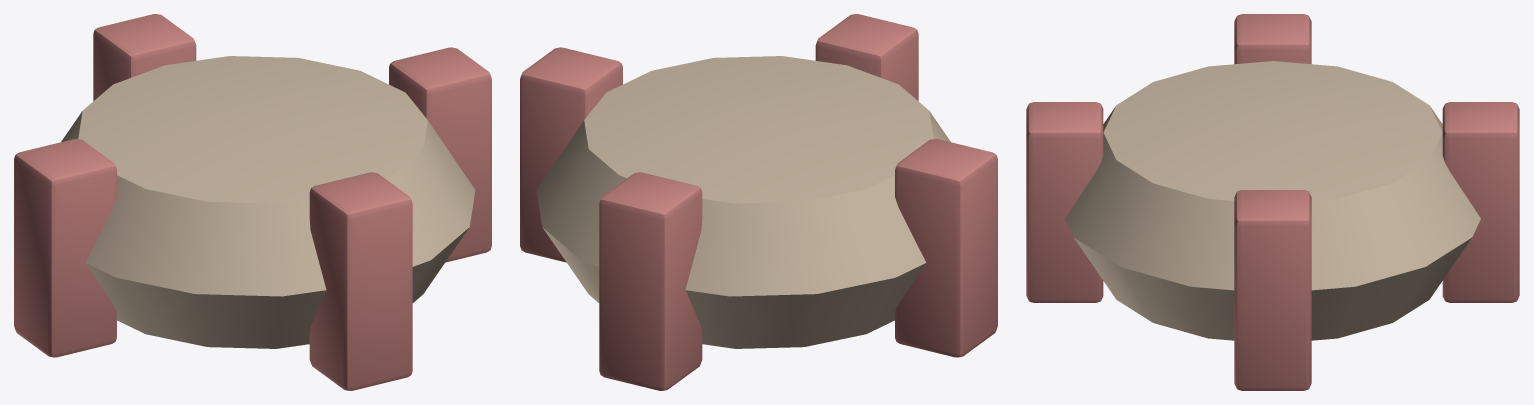
Rendered from rope_float.gltf.
The picture shows the model from 3 angles, left to right: view 1: azimuth 30°, elevation 25°; view 2: azimuth 150°, elevation 25°; view 3: azimuth 270°, elevation 25°; orthographic projection. The views are drawn at different scales.
Visible parts, largest first — view 1: Body; view 2: Body; view 3: Body.
Boxes of the visible parts, left/top/right/bottom form: Body: left=14, top=14, right=491, bottom=390; Body: left=520, top=14, right=997, bottom=390; Body: left=1026, top=14, right=1519, bottom=390.
Bounding box in the file's own units: 0.64 × 0.25 × 0.64.
